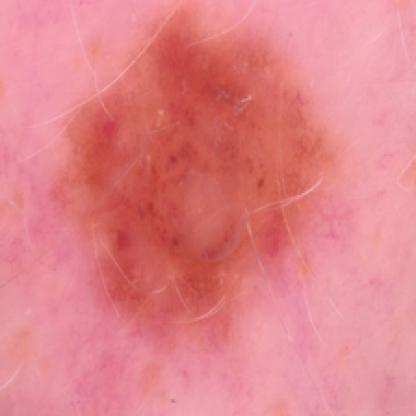benign: (78, 21, 332, 323)
